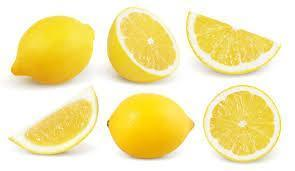lemon: (7, 84, 99, 154), (203, 84, 281, 162), (186, 10, 280, 74), (106, 93, 194, 159), (11, 16, 94, 84), (107, 6, 179, 82)
